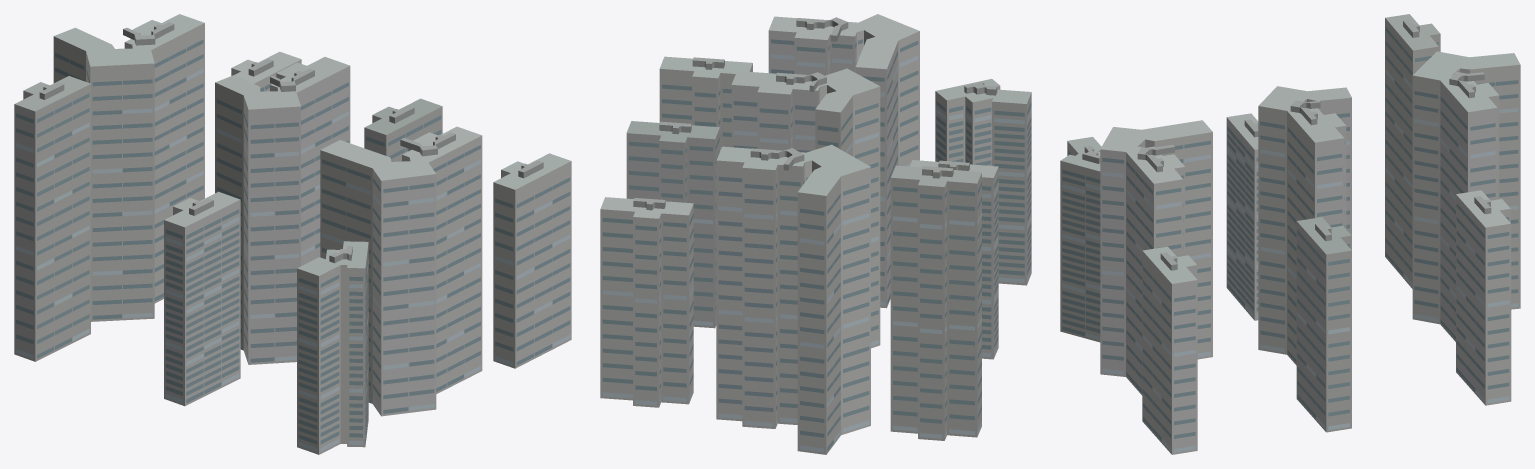
File: apt-a10024913.glb
3 views of the same model, side by side, from view 1: azimuth 30°, elevation 25°; view 2: azimuth 150°, elevation 25°; view 3: azimuth 270°, elevation 25° (orthographic). The views are drawn at different scales.
Parts seen in each view (by area): view 1: apt-a10024913; view 2: apt-a10024913; view 3: apt-a10024913.
Boxes of the visible parts, left/top/right/bottom form: apt-a10024913: left=14, top=14, right=571, bottom=454; apt-a10024913: left=600, top=14, right=1031, bottom=454; apt-a10024913: left=1060, top=14, right=1520, bottom=454.
Bounding box in the file's own units: 184 × 106 × 177.
